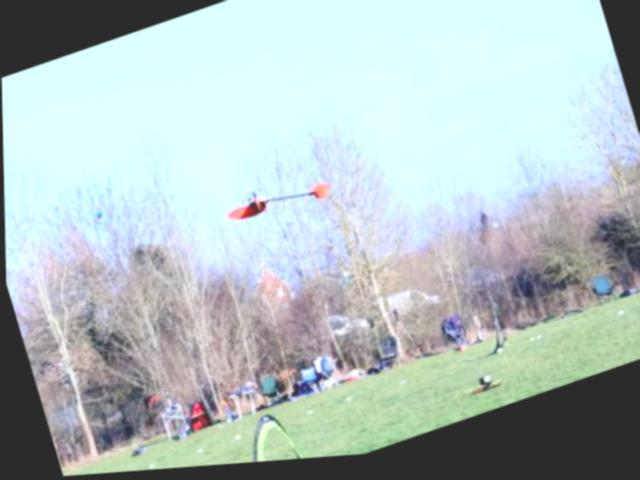uav: (206, 159, 339, 251)
